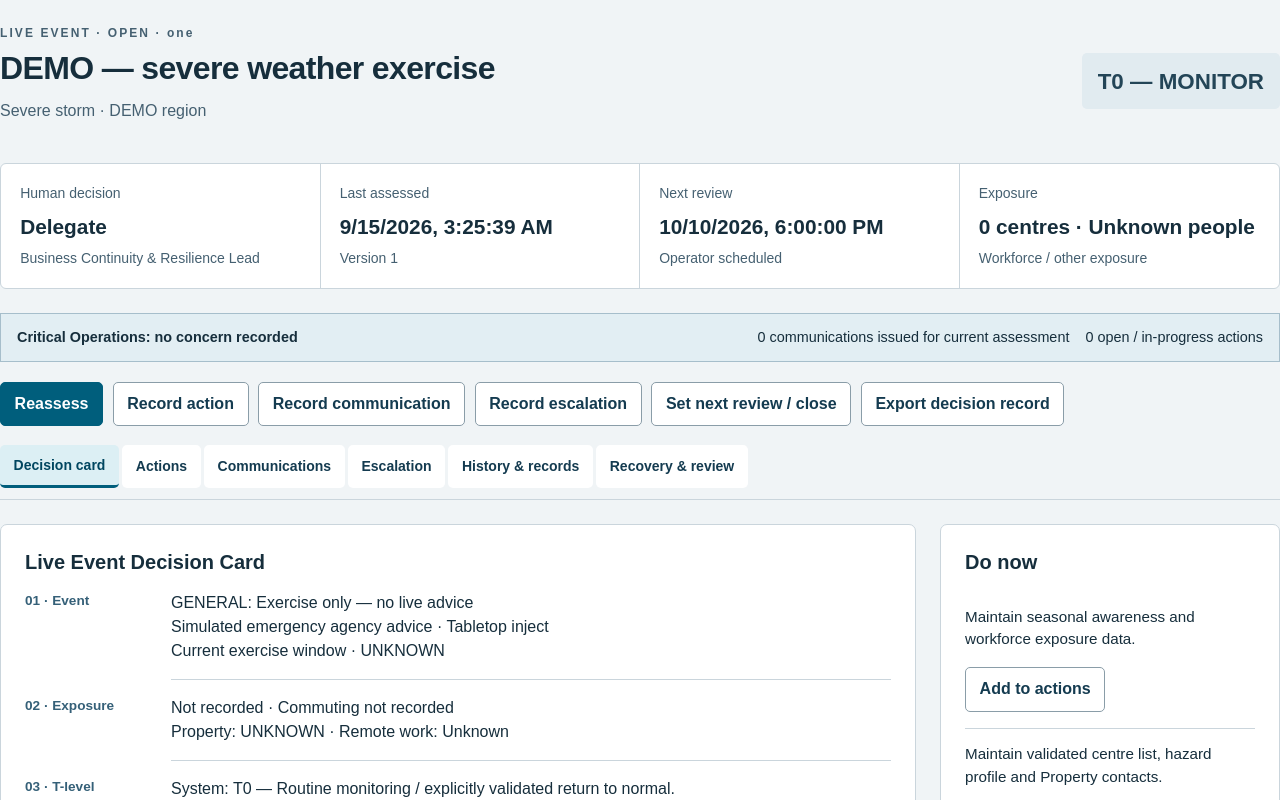
Test: live actions use recommendation without retyping and recovery exposes checks
The image size is (1280, 800).
Click the 1st button "Add to actions". click: point(1035, 689)
box: [965,667,1105,712]
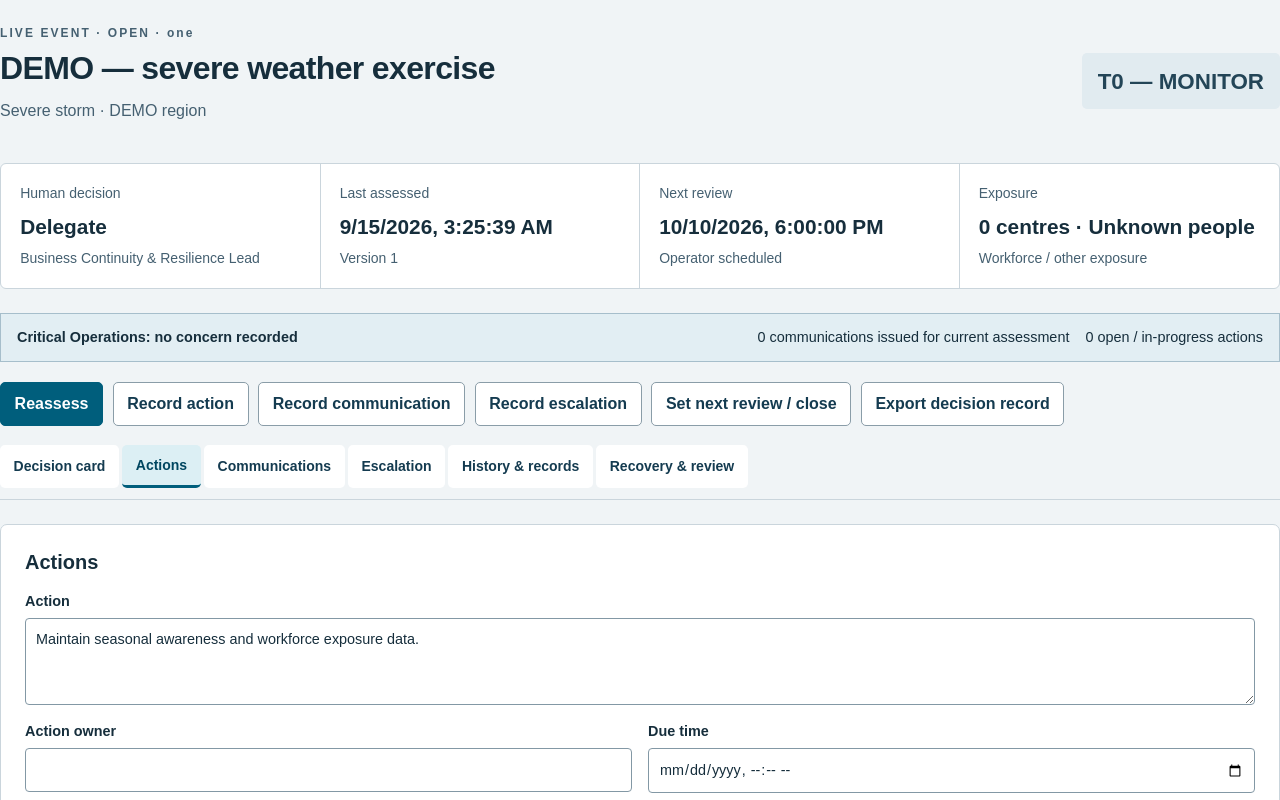
Click the button "Recovery & review". click: point(672, 467)
box: [596,445,748,488]
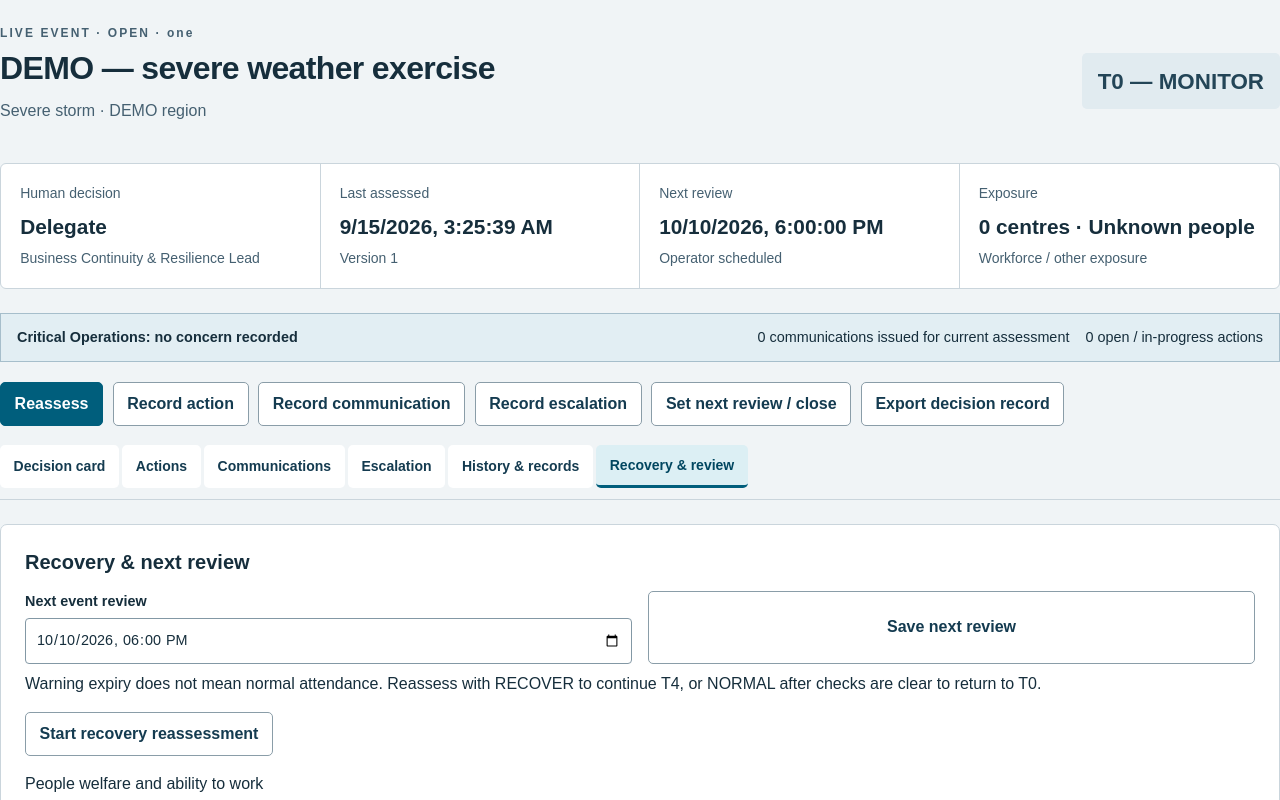
Now the text "People welfare and ability to work" is shown, box [25,775,263,792]
